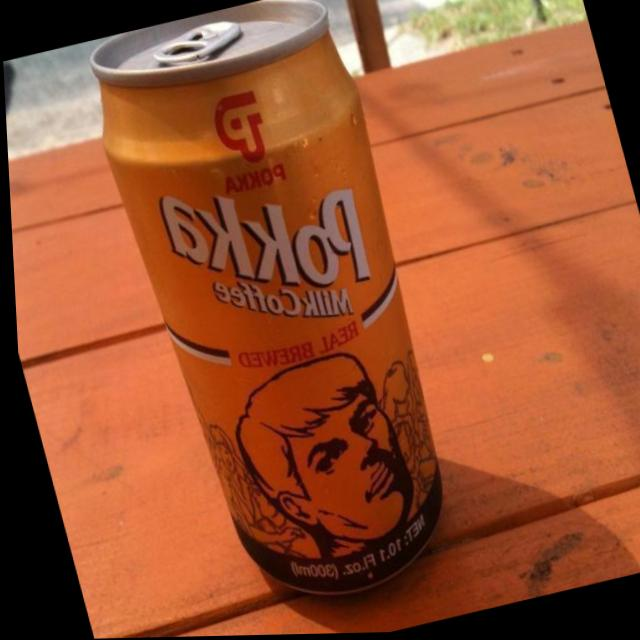metal: (62, 0, 498, 621)
